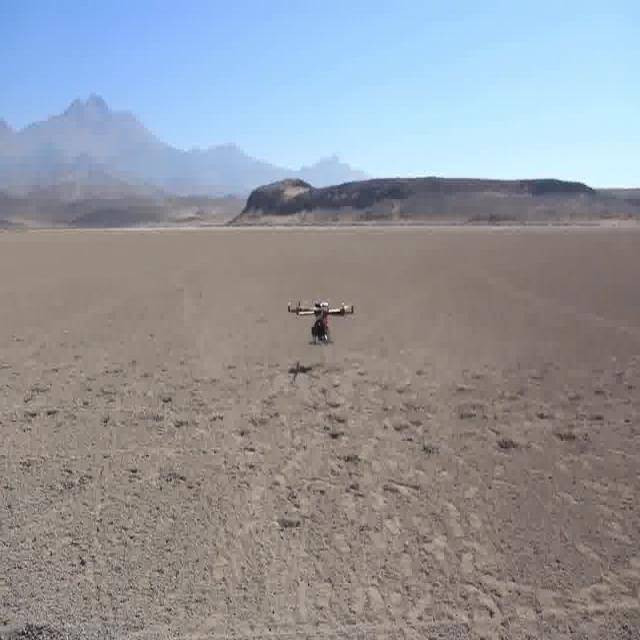drone: (285, 288, 361, 360)
